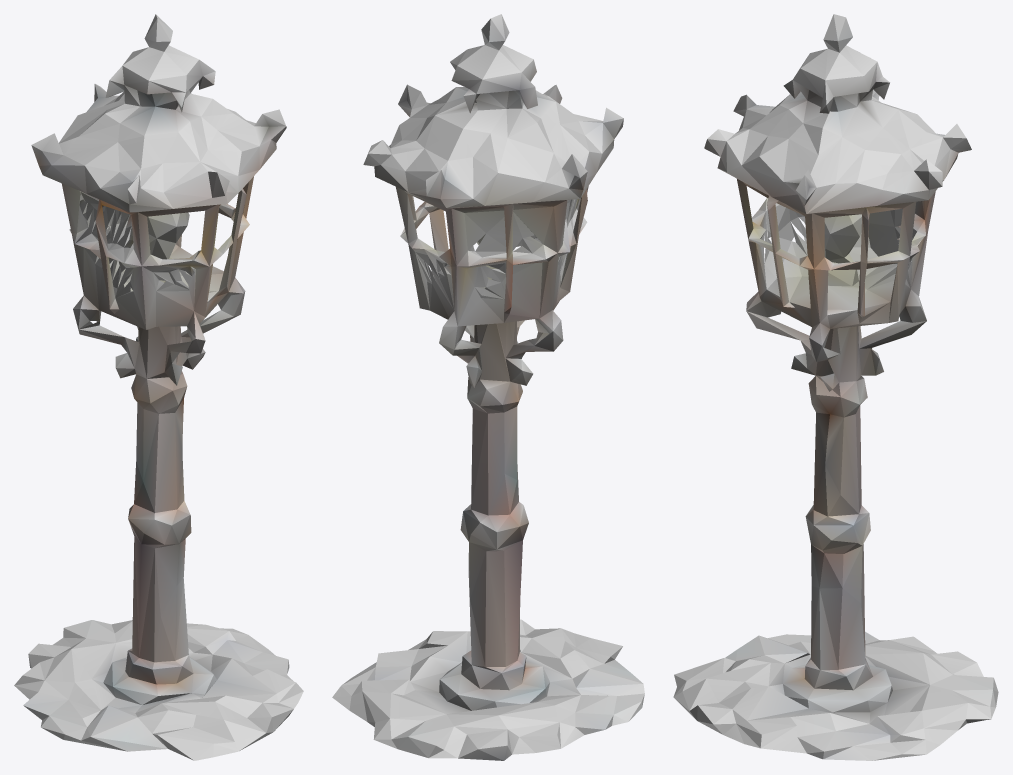
File: gen-lantern.glb
3 renders of one model, left to right at view 1: azimuth 30°, elevation 25°; view 2: azimuth 150°, elevation 25°; view 3: azimuth 270°, elevation 25°, orthographic.
Parts seen in each view (by area): view 1: model; view 2: model; view 3: model.
Boxes of the visible parts, x1,y1,x2,y2 form: model: (14,14,303,760); model: (332,14,644,760); model: (673,14,998,760).
Bounding box in the file's own units: 1.16 × 3 × 1.29.
